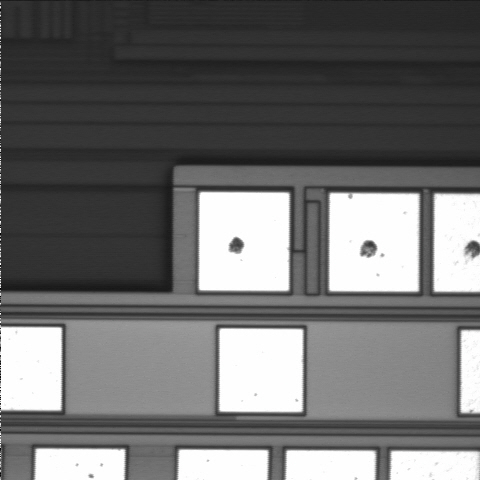pad: (199, 192, 289, 291), (329, 193, 419, 291), (220, 329, 303, 412)
